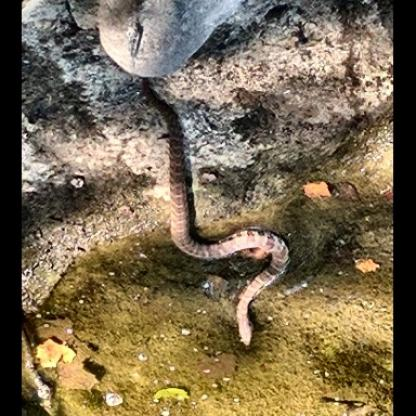Snake: (149, 84, 291, 349)
